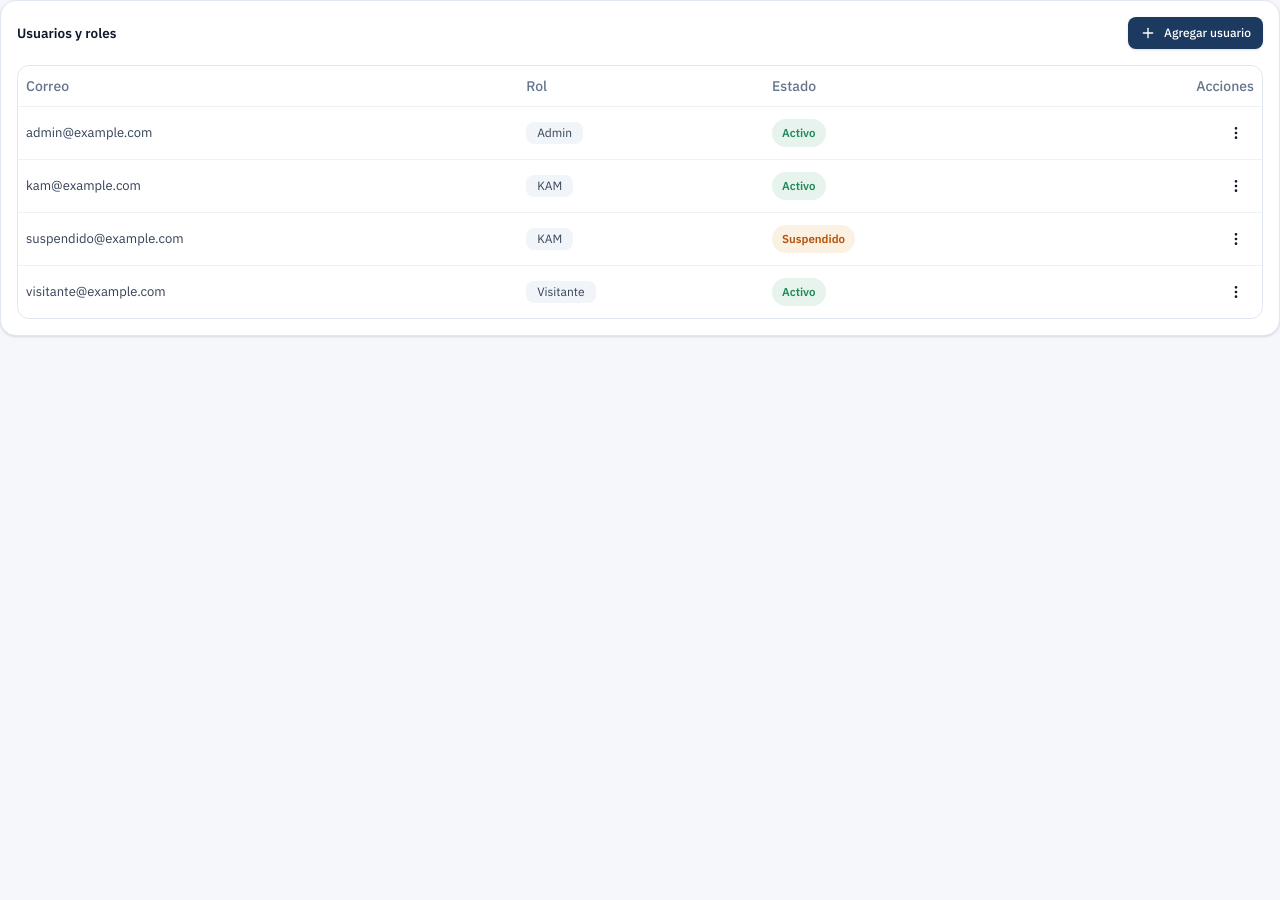
Scenario: ConfigUsuarios › restablecer contraseña: si se cancela la confirmación no se hace ninguna petición
The width and height of the screenshot is (1280, 900).
expect the text "kam@example.com" is shown: met, box [18,159,518,212]
Press the mouse on the button named "Acciones para kam@example.com" at (1236, 186), box [1218,168,1254,204]
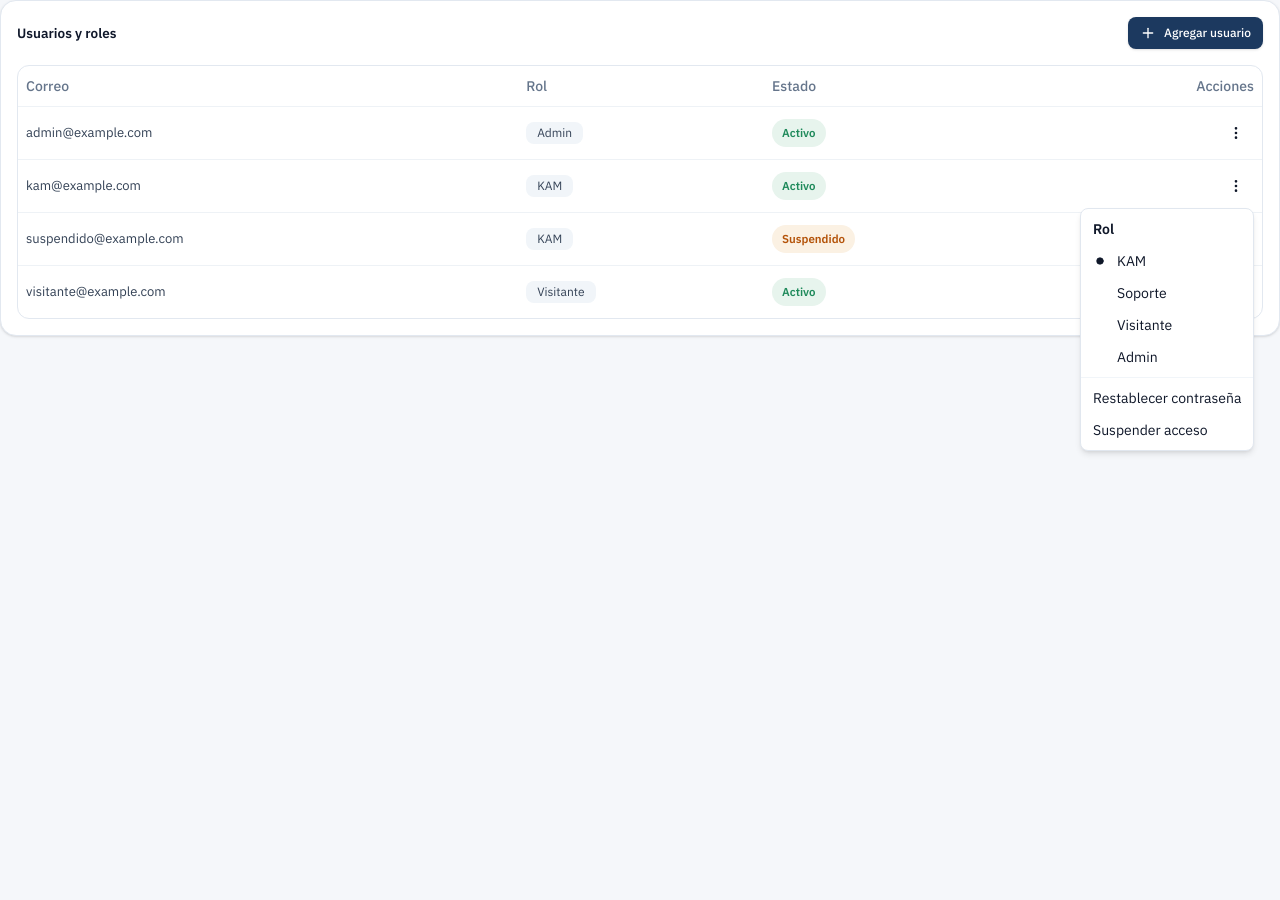
Click the menu item "Restablecer contraseña".
click(1167, 398)  # box [1093,389,1241,407]
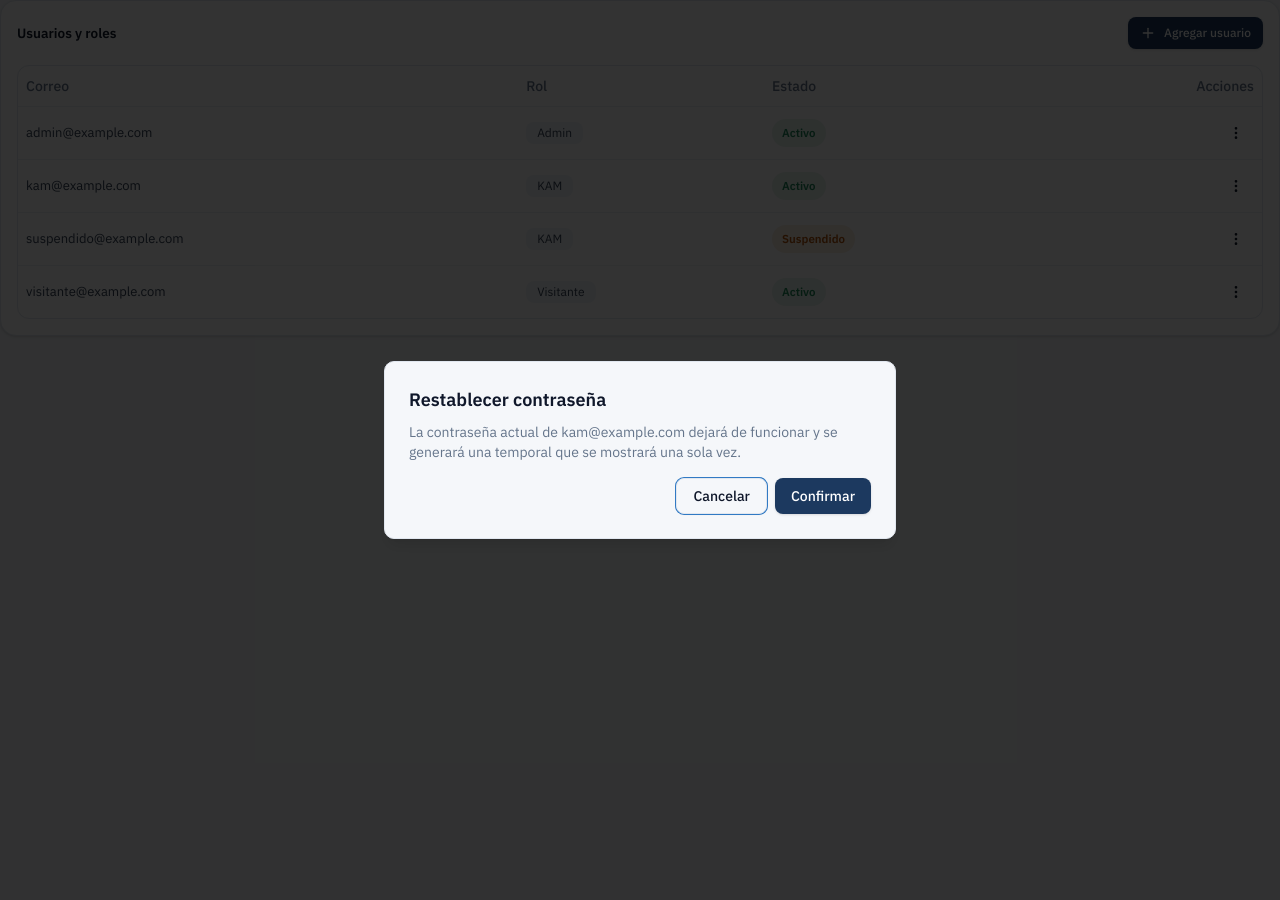
Click the button "Cancelar".
click(722, 496)  # box [676,478,767,514]
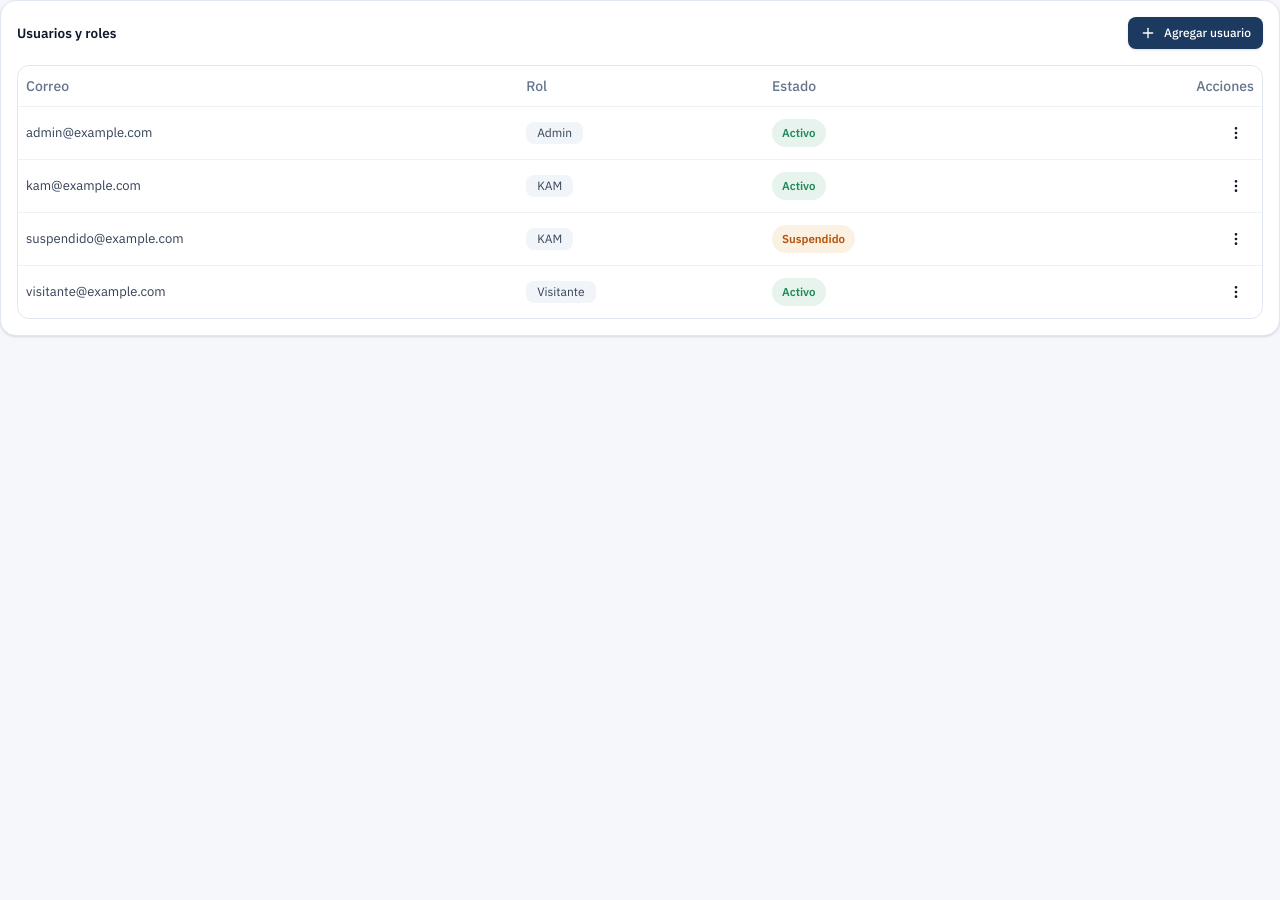
expect the dialog is gone: met
